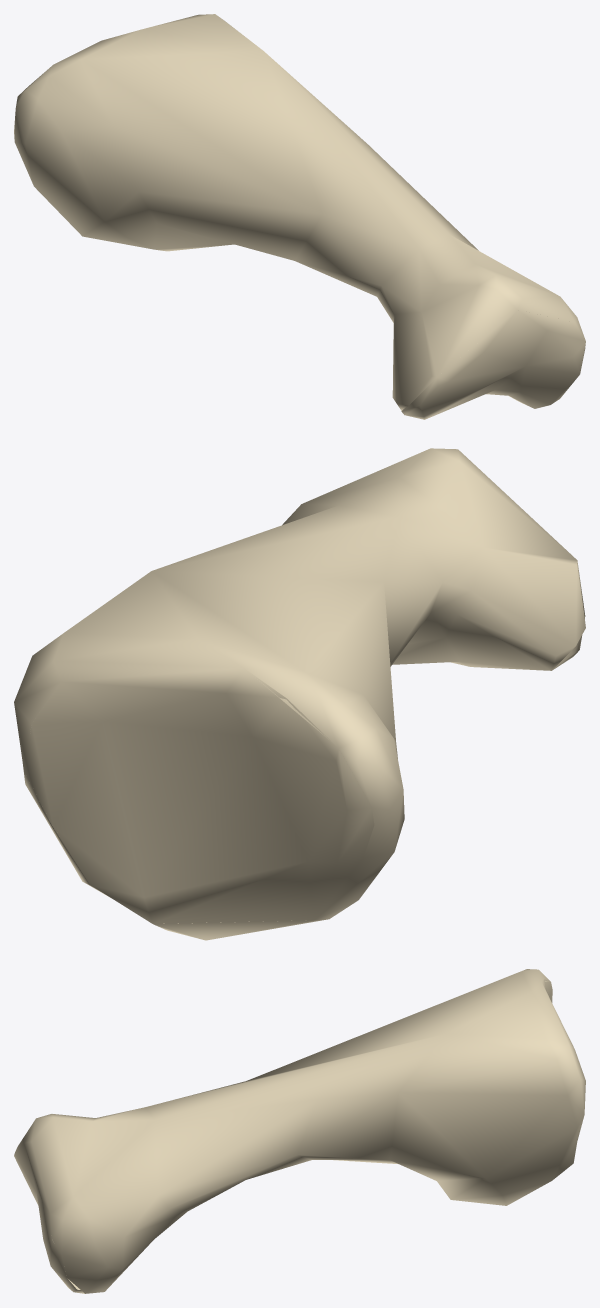
The model's file is esqueleto-proximal-phalanx-of-second-finger-of-foot-l.glb.
3 views of the same model, one above another, from view 1: azimuth 30°, elevation 25°; view 2: azimuth 150°, elevation 25°; view 3: azimuth 270°, elevation 25° (orthographic). The views are drawn at different scales.
Visible parts, largest first — view 1: Proximal phalanx of second finger of foot.l; view 2: Proximal phalanx of second finger of foot.l; view 3: Proximal phalanx of second finger of foot.l.
Part boxes in pixels (<box>): Proximal phalanx of second finger of foot.l: <box>14,14,585,419</box>; Proximal phalanx of second finger of foot.l: <box>14,448,585,940</box>; Proximal phalanx of second finger of foot.l: <box>14,969,585,1293</box>.
Size of the model in its own units: 0.0178 by 0.013 by 0.0293.
